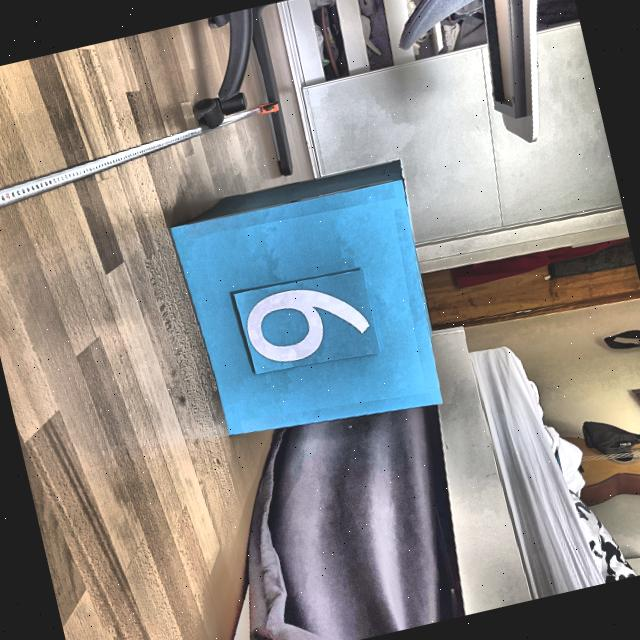blue box: (160, 144, 458, 462)
six: (231, 264, 385, 380)
